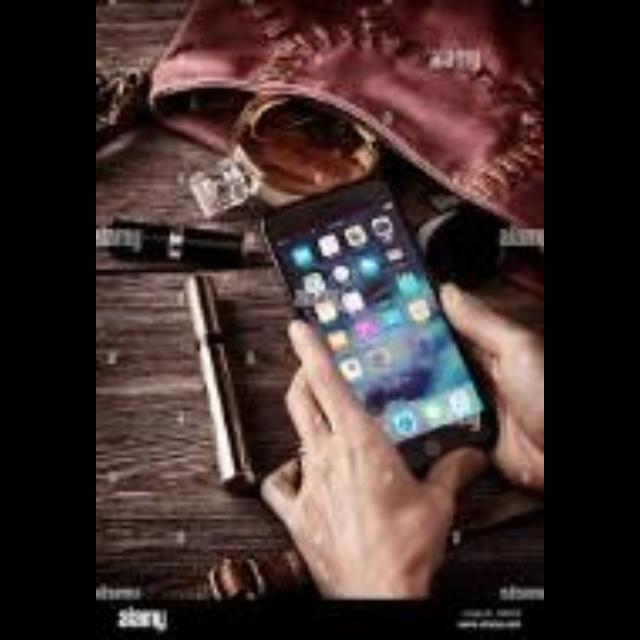Phone: (263, 172, 502, 468)
